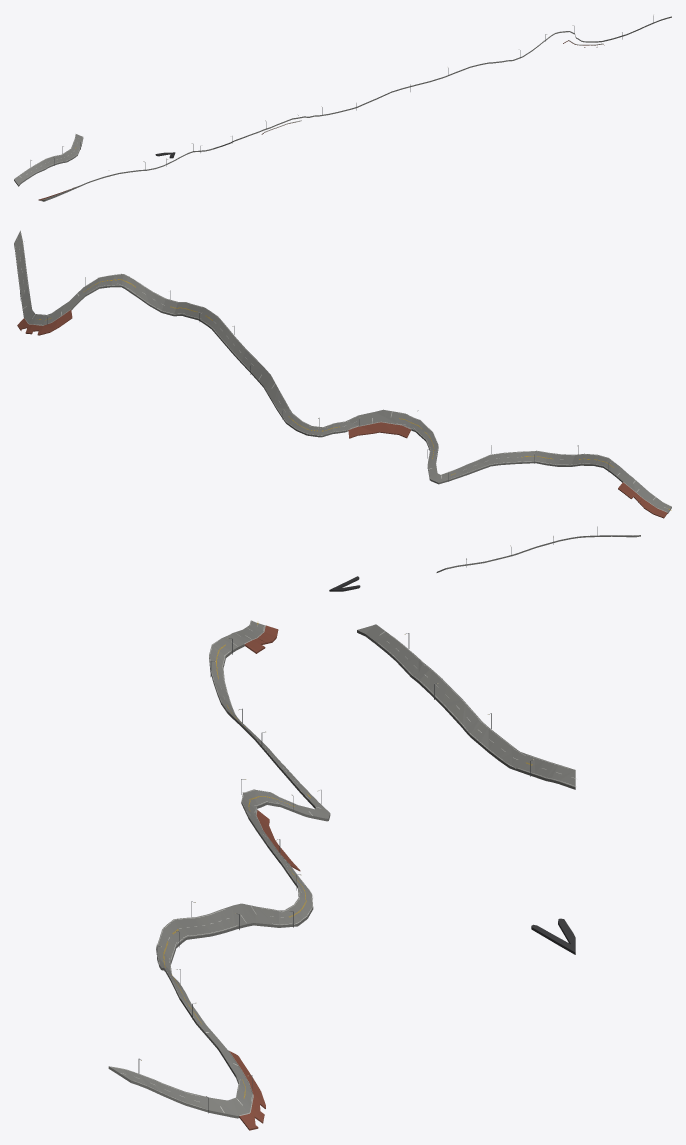
Rendered from 16-54741-29745.9f64dcf5.glb.
3 renders of one model, top to bottom at view 1: azimuth 30°, elevation 25°; view 2: azimuth 150°, elevation 25°; view 3: azimuth 270°, elevation 25°, orthographic. The views are drawn at different scales.
Bounding box in the file's own units: 588 × 123 × 201.
